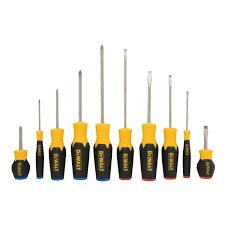screwdriver: (92, 43, 111, 180), (116, 48, 134, 179), (70, 68, 89, 179), (161, 74, 179, 178), (48, 88, 66, 180), (139, 70, 154, 180), (10, 124, 30, 179), (196, 124, 214, 179), (34, 98, 44, 179), (182, 90, 191, 177)
